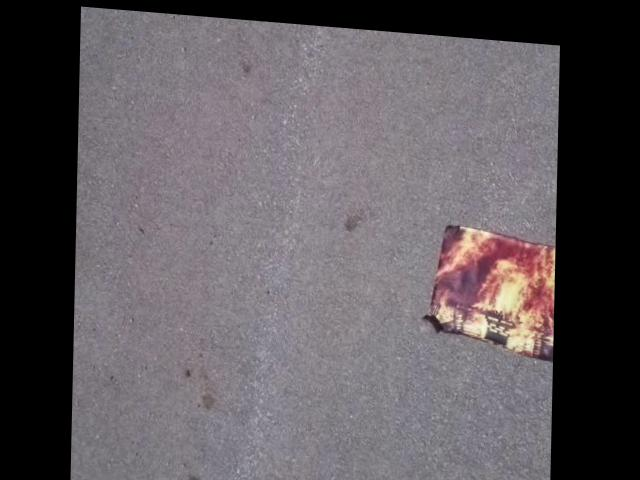fire-poster: (419, 211, 556, 355)
